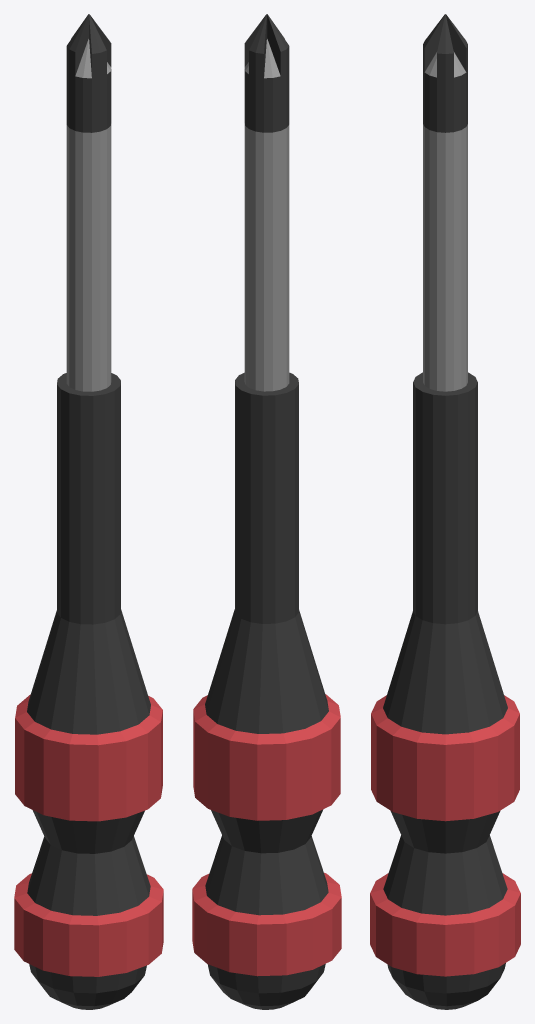
File: destornillador.fbx
3 renders of one model, left to right at view 1: azimuth 30°, elevation 25°; view 2: azimuth 150°, elevation 25°; view 3: azimuth 270°, elevation 25°, orthographic.
Parts seen in each view (by area): view 1: Esfera; view 2: Esfera; view 3: Esfera.
Part boxes in pixels (box(x1,y1,x2,y2)): Esfera: box(14, 14, 163, 1009); Esfera: box(192, 14, 341, 1009); Esfera: box(370, 14, 520, 1009).
Bounding box in the file's own units: 45.59 × 330 × 45.59.
